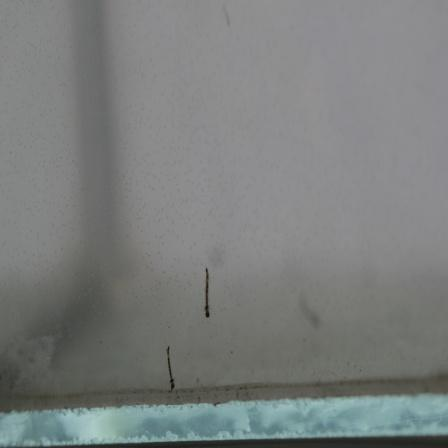Jentik-Nyamuk: (158, 339, 179, 391), (201, 264, 215, 322)
